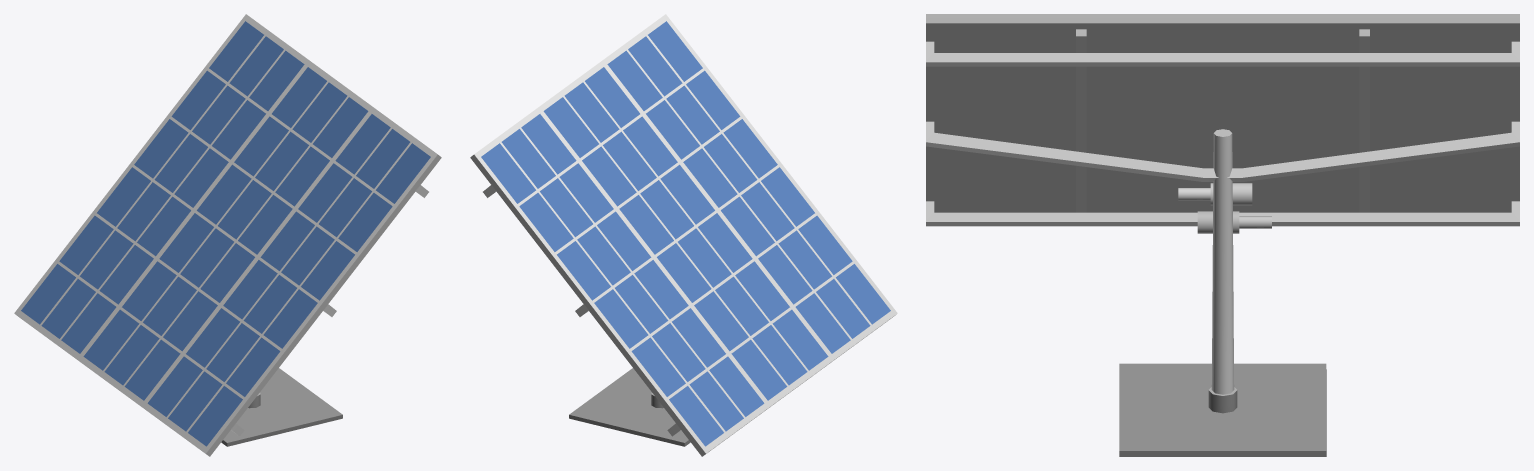
File: solar_panel.glb
The picture shows the model from 3 angles, left to right: view 1: azimuth 30°, elevation 25°; view 2: azimuth 150°, elevation 25°; view 3: azimuth 270°, elevation 25°; orthographic projection. The views are drawn at different scales.
Parts seen in each view (by area): view 1: Plane_003, Cylinder; view 2: Plane_003, Cylinder; view 3: Plane_003, Cylinder.
Part boxes in pixels (x1,y1,x2,y2): Plane_003: (14, 14, 441, 456); Cylinder: (221, 368, 342, 446); Plane_003: (470, 14, 897, 456); Cylinder: (569, 368, 690, 446); Plane_003: (926, 14, 1519, 226); Cylinder: (1119, 129, 1326, 456).
Size of what is drawn, in the model's own units: 251 by 307 by 353.
2 materials, 2 textured.
